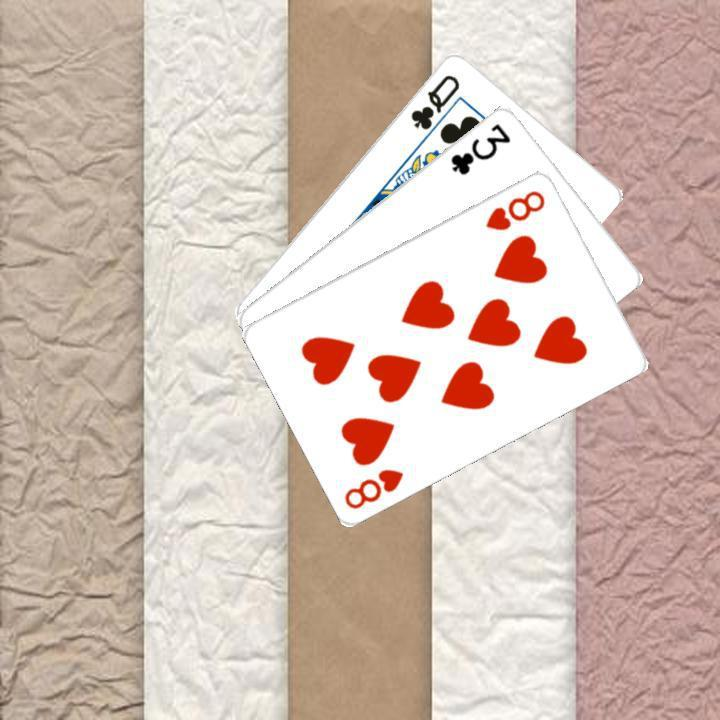3: (446, 118, 513, 177)
8: (340, 463, 406, 511), (481, 185, 548, 232)
Q: (406, 69, 462, 132)
